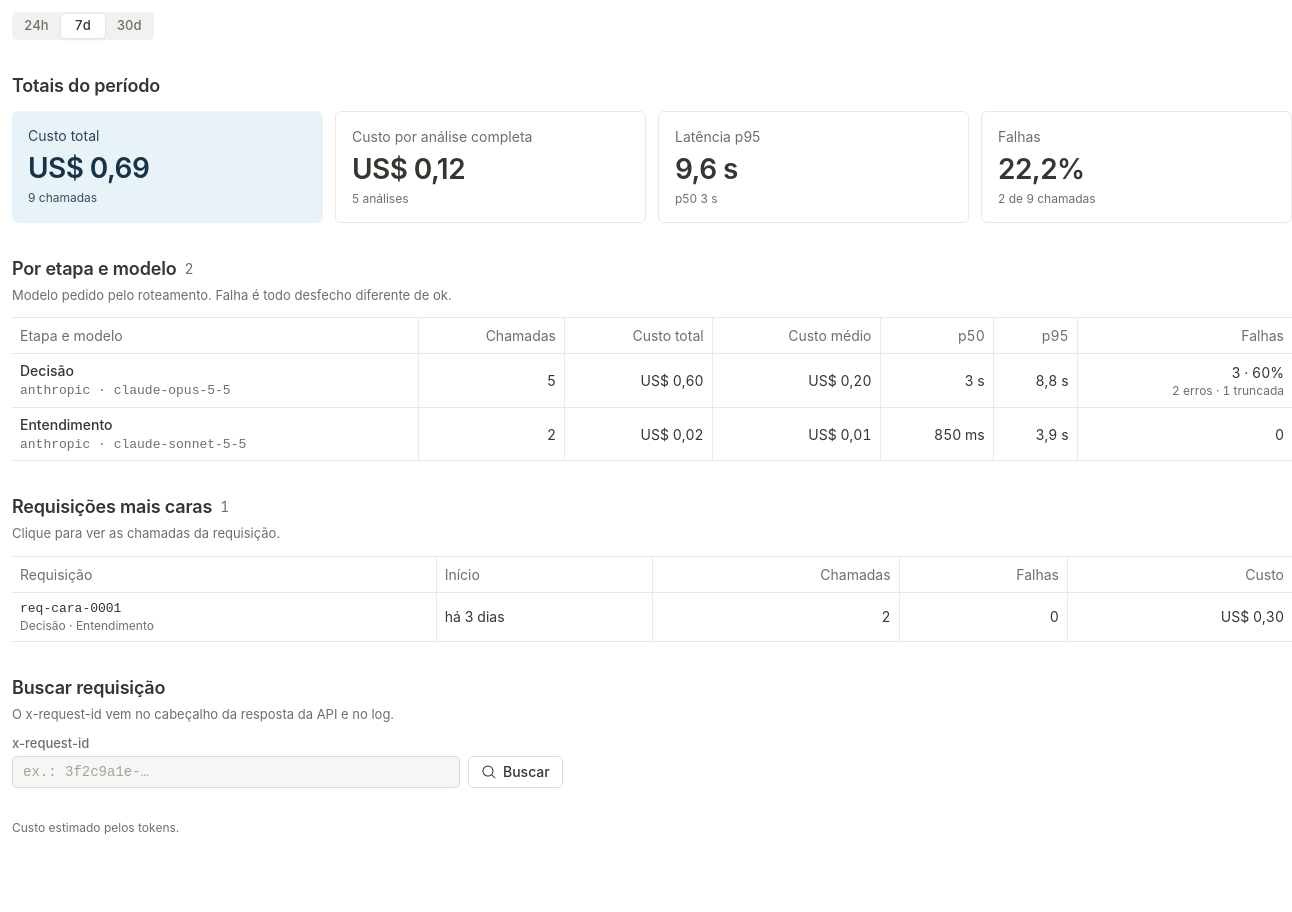
Test: Console admin — chamadas de IA por etapa e modelo (CC-004) › explica o formato quando a API recusa o id
Expected: the table named "Chamadas de IA por etapa e modelo" is shown, [12,317,1291,461]
In the field labelled "x-request-id": {"x": 236, "y": 772} [12,756,460,788], type "x' or 1=1"
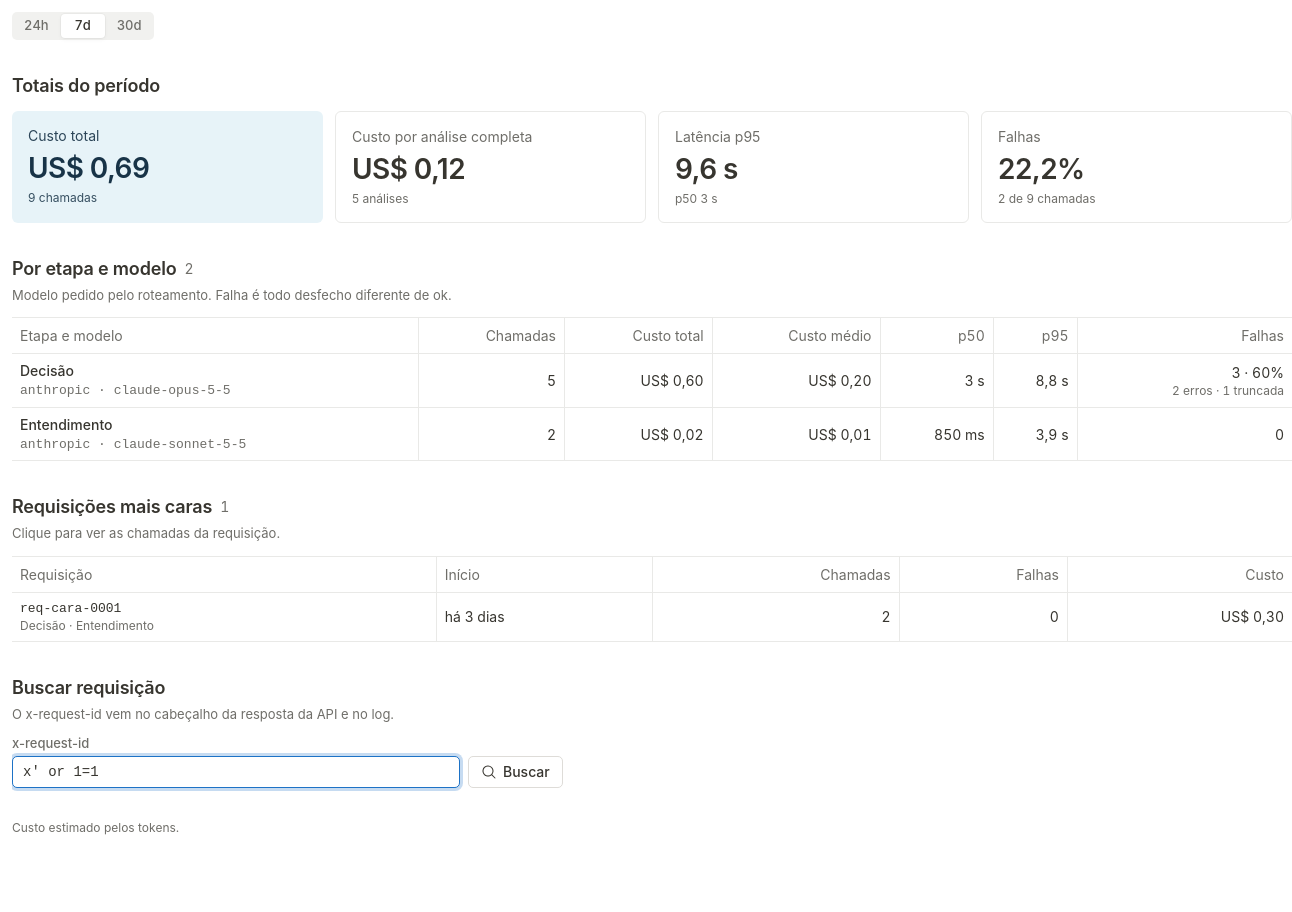
Click the button named "Buscar": {"x": 515, "y": 772} [468,756,563,788]
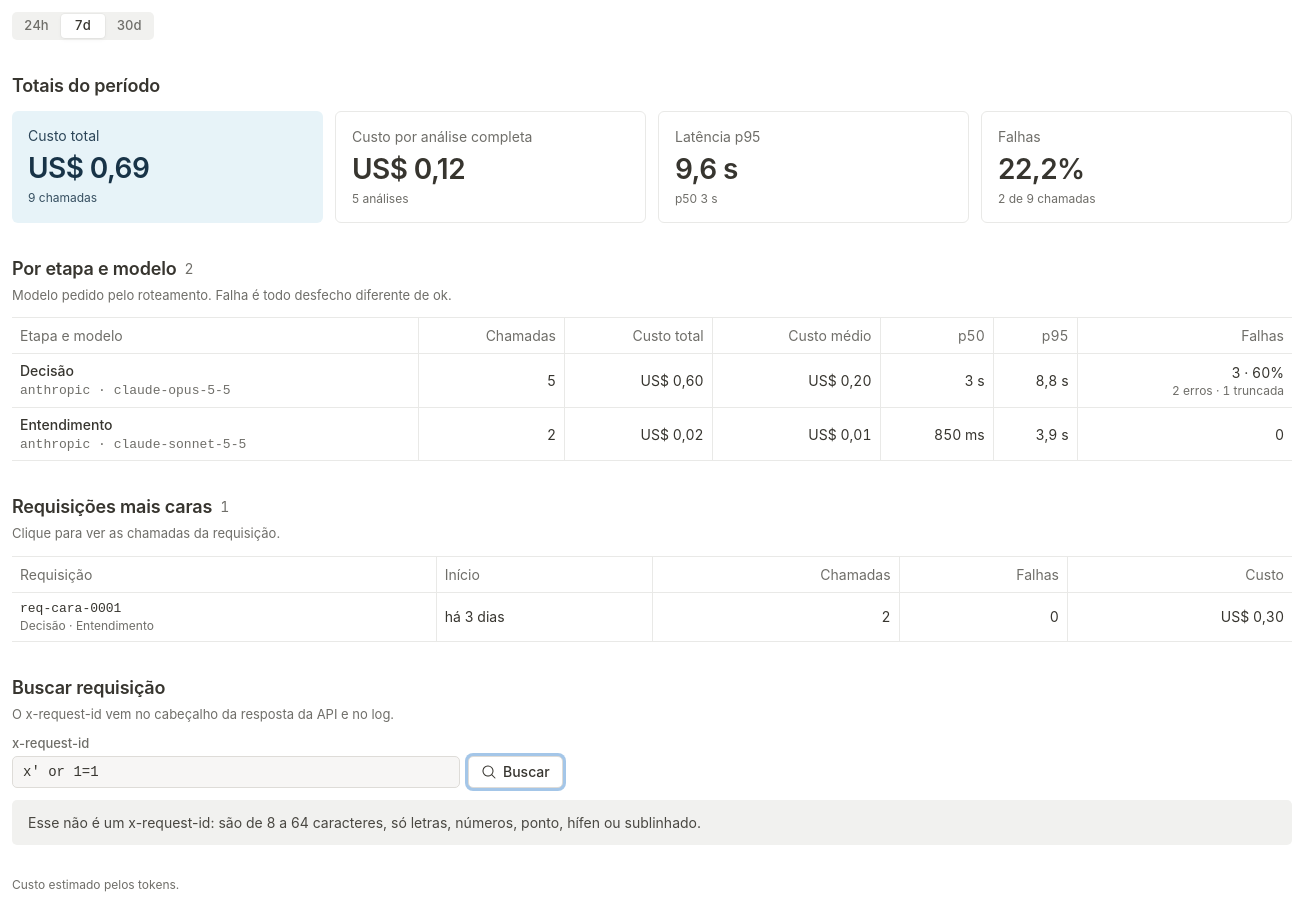
Now the text "Esse não é um x-request-id" is shown, box [28,814,701,831]
